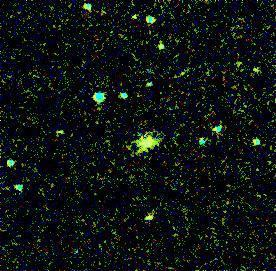star: (117, 9, 147, 39)
